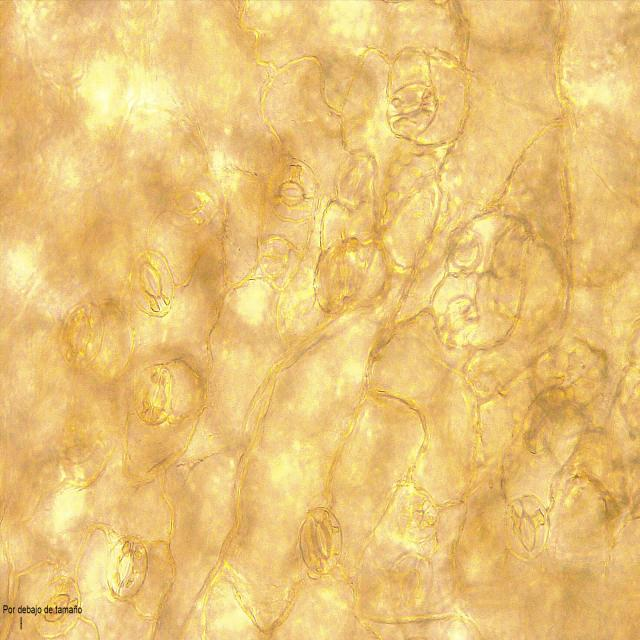Stomata: (159, 174, 221, 231), (266, 158, 319, 224), (58, 301, 106, 371), (128, 248, 176, 318), (504, 494, 552, 562), (298, 507, 344, 574), (104, 536, 150, 602), (389, 552, 433, 618), (387, 82, 437, 140), (133, 364, 173, 426), (397, 490, 439, 544), (438, 295, 478, 351), (259, 237, 289, 276)
